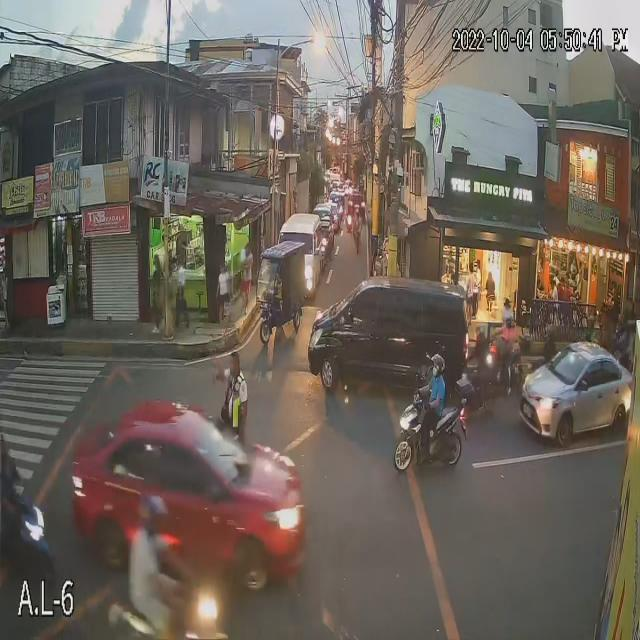helmet: (136, 492, 170, 536), (422, 354, 453, 386), (474, 325, 491, 346), (502, 310, 520, 329), (582, 313, 600, 330), (541, 322, 557, 341)
motorcycle: (380, 398, 470, 480), (112, 585, 228, 640), (454, 361, 518, 416), (485, 344, 529, 388)
rider: (126, 532, 178, 602), (410, 375, 454, 450), (470, 346, 492, 390), (502, 324, 522, 364), (540, 339, 562, 369), (580, 328, 602, 357)
